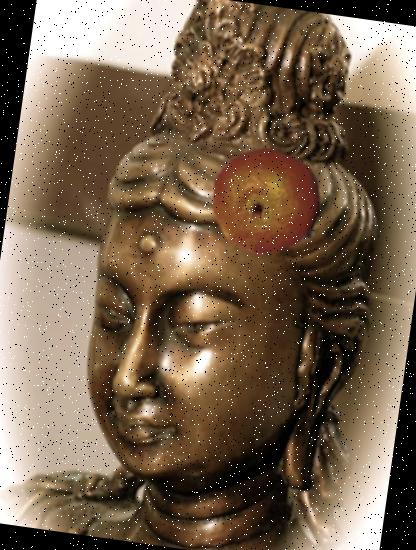Clementine: (204, 138, 333, 267)
